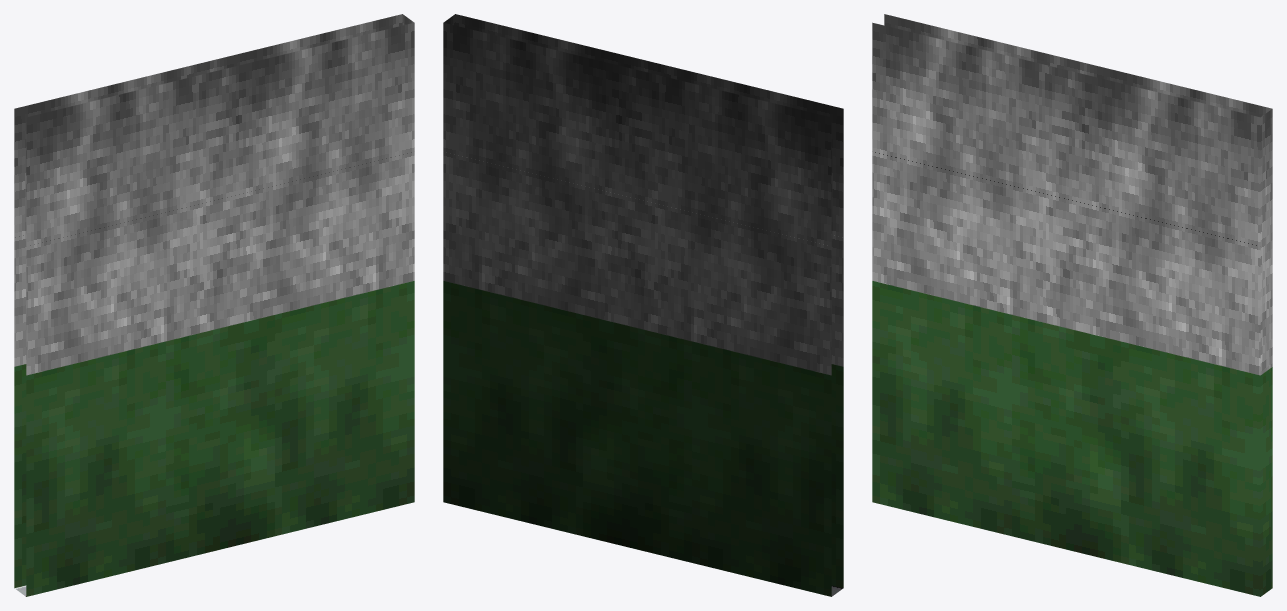
The model's file is Parchsecdoor2Z.obj.
3 views of the same model, side by side, from view 1: azimuth 30°, elevation 25°; view 2: azimuth 150°, elevation 25°; view 3: azimuth 330°, elevation 25° (orthographic).
Bounding box in the file's own units: 642 × 758 × 34.
Materials: 3 (3 with a texture image).
